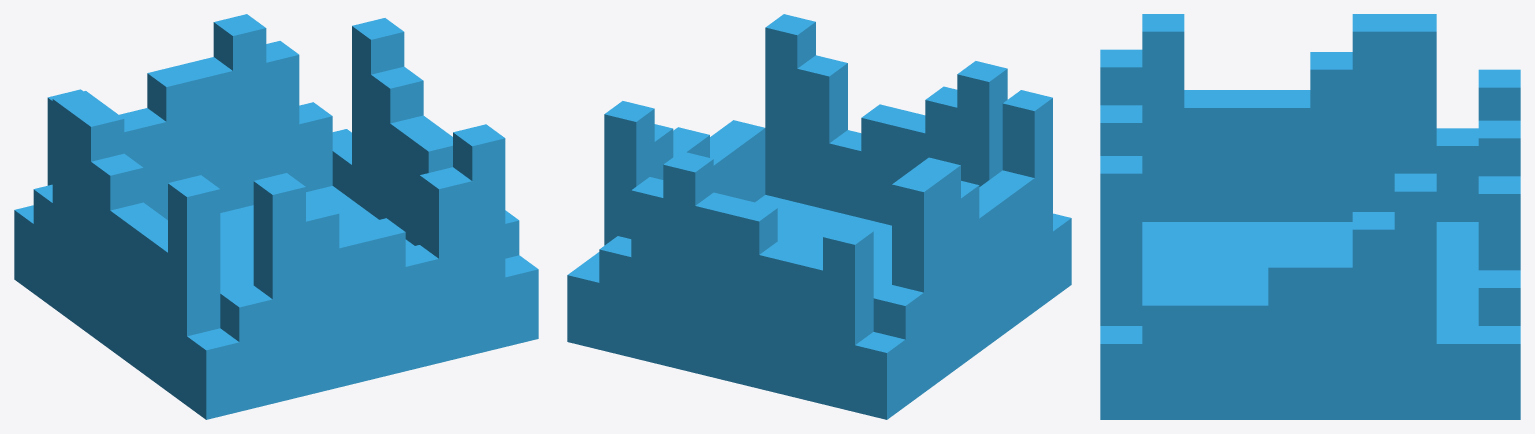
File: mapChange.fbx
3 renders of one model, left to right at view 1: azimuth 30°, elevation 25°; view 2: azimuth 150°, elevation 25°; view 3: azimuth 270°, elevation 25°, orthographic. The views are drawn at different scales.
Visible parts, largest first — view 1: Matrix; view 2: Matrix; view 3: Matrix.
Boxes of the visible parts, left/top/right/bottom form: Matrix: left=14, top=14, right=538, bottom=419; Matrix: left=567, top=14, right=1071, bottom=419; Matrix: left=1100, top=14, right=1520, bottom=419.
Bounding box in the file's own units: 10 × 6 × 10.
1 material, 1 textured.
